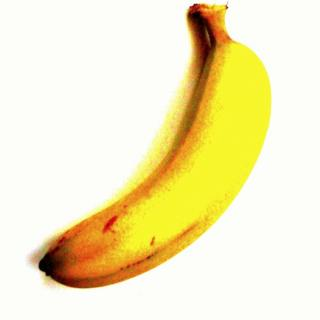Banana: (38, 5, 272, 293)
